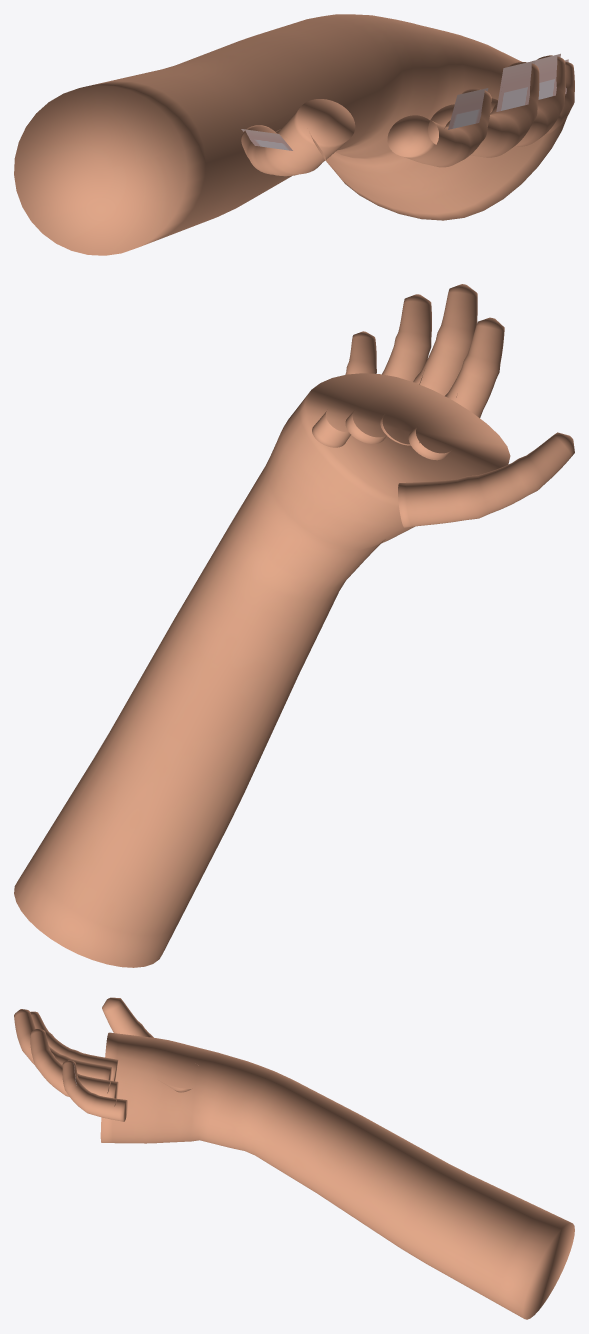
File: hand_grip.glb
3 renders of one model, top to bottom at view 1: azimuth 30°, elevation 25°; view 2: azimuth 150°, elevation 25°; view 3: azimuth 270°, elevation 25°, orthographic. The views are drawn at different scales.
Visible parts, largest first — view 1: hand_grip; view 2: hand_grip; view 3: hand_grip.
Boxes of the visible parts, left/top/right/bottom form: hand_grip: left=14, top=14, right=574, bottom=255; hand_grip: left=14, top=284, right=574, bottom=967; hand_grip: left=14, top=997, right=574, bottom=1319.
Size of the model in its own units: 0.1404 by 0.2058 by 0.3472.
1 material, 1 textured.
